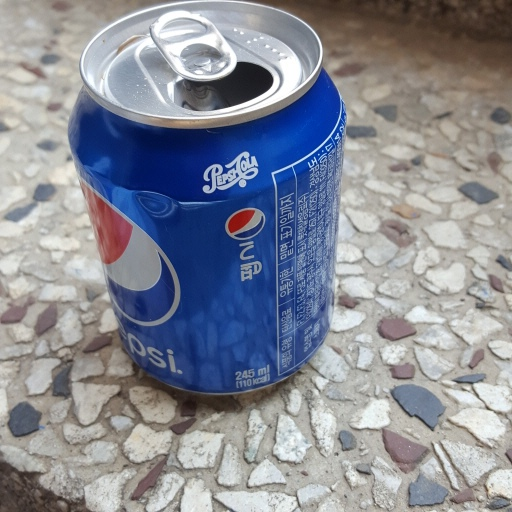Metal_0: (68, 3, 348, 396)
